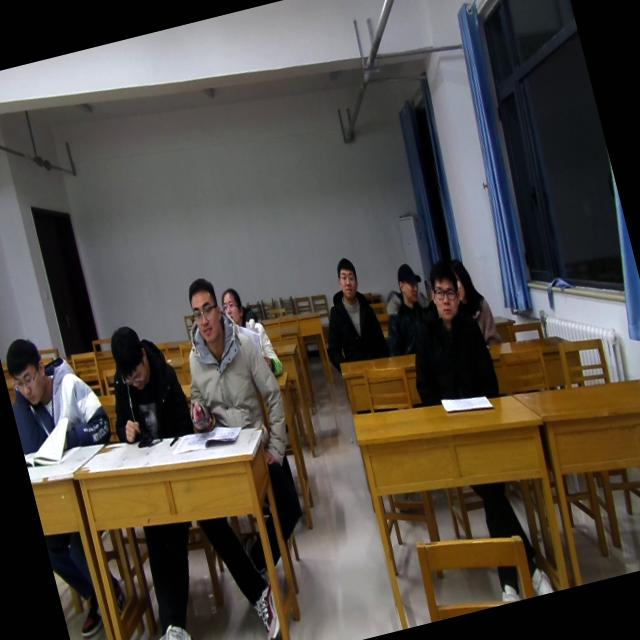bow: (0, 319, 116, 467)
down: (0, 329, 54, 412), (103, 320, 156, 400)
lookup: (181, 271, 229, 348), (422, 258, 466, 328), (329, 251, 362, 302), (216, 284, 246, 326)
sit: (158, 264, 288, 442), (388, 254, 502, 411), (90, 316, 196, 456), (306, 252, 392, 372), (216, 277, 285, 386), (372, 260, 442, 360), (447, 251, 503, 352)
